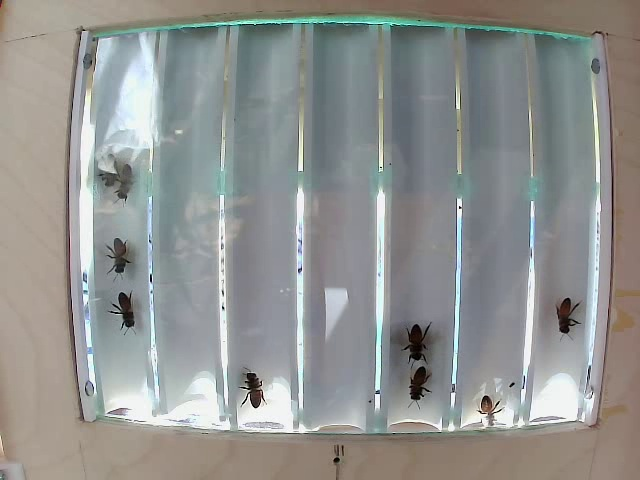bee: (228, 370, 282, 414), (100, 235, 143, 281), (400, 319, 441, 357), (546, 295, 582, 338), (404, 362, 439, 404), (107, 295, 139, 333), (110, 169, 148, 197), (471, 395, 504, 424)
